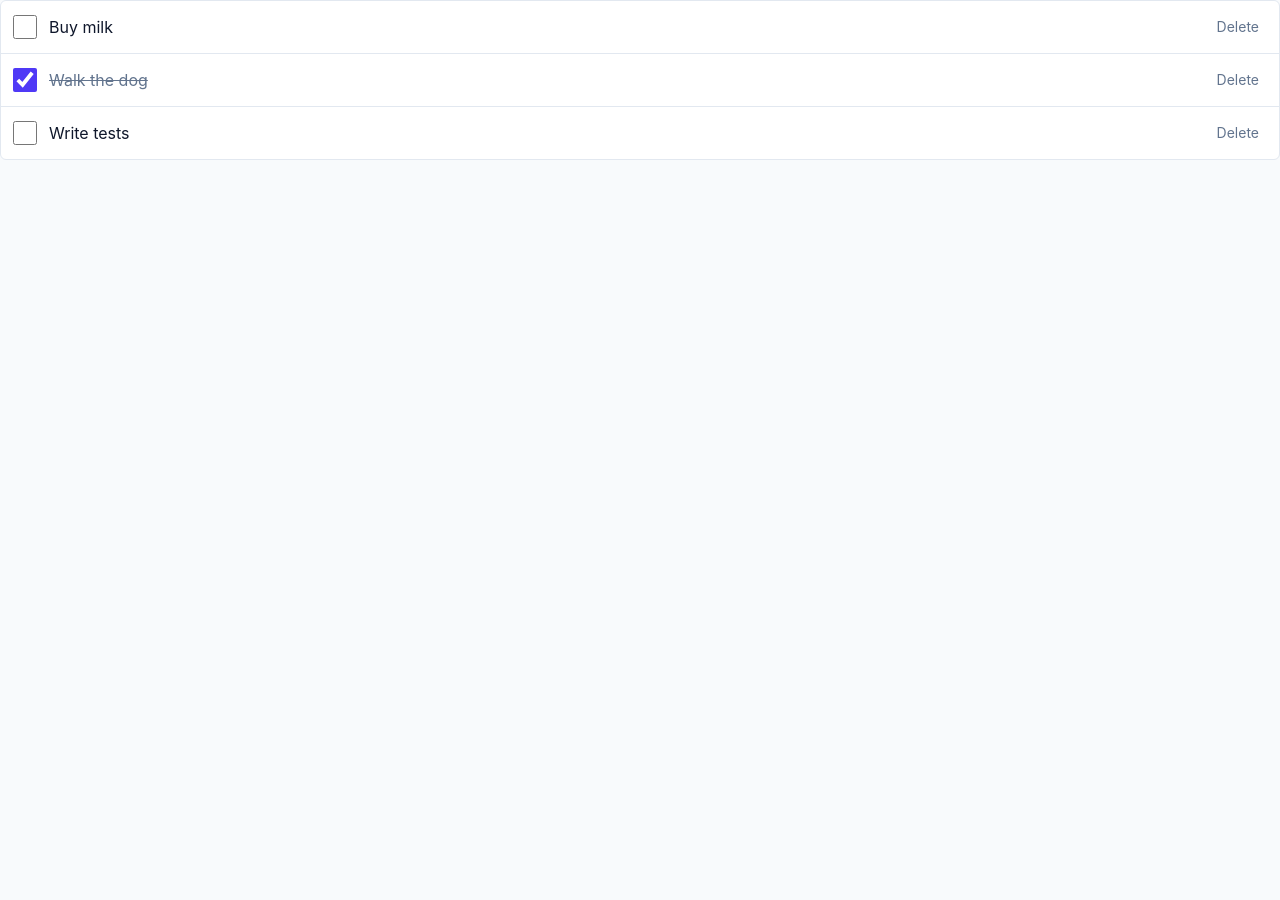
it: TaskList › confirm-delete dialog › opens a dialog naming the task instead of deleting right away
This screenshot has width=1280, height=900.
What coordinates should you click on to do the following:
click the button "Delete" in the row of "Walk the dog"
I would click on:
 (1238, 80)
Its box is [1209,66,1267,94].
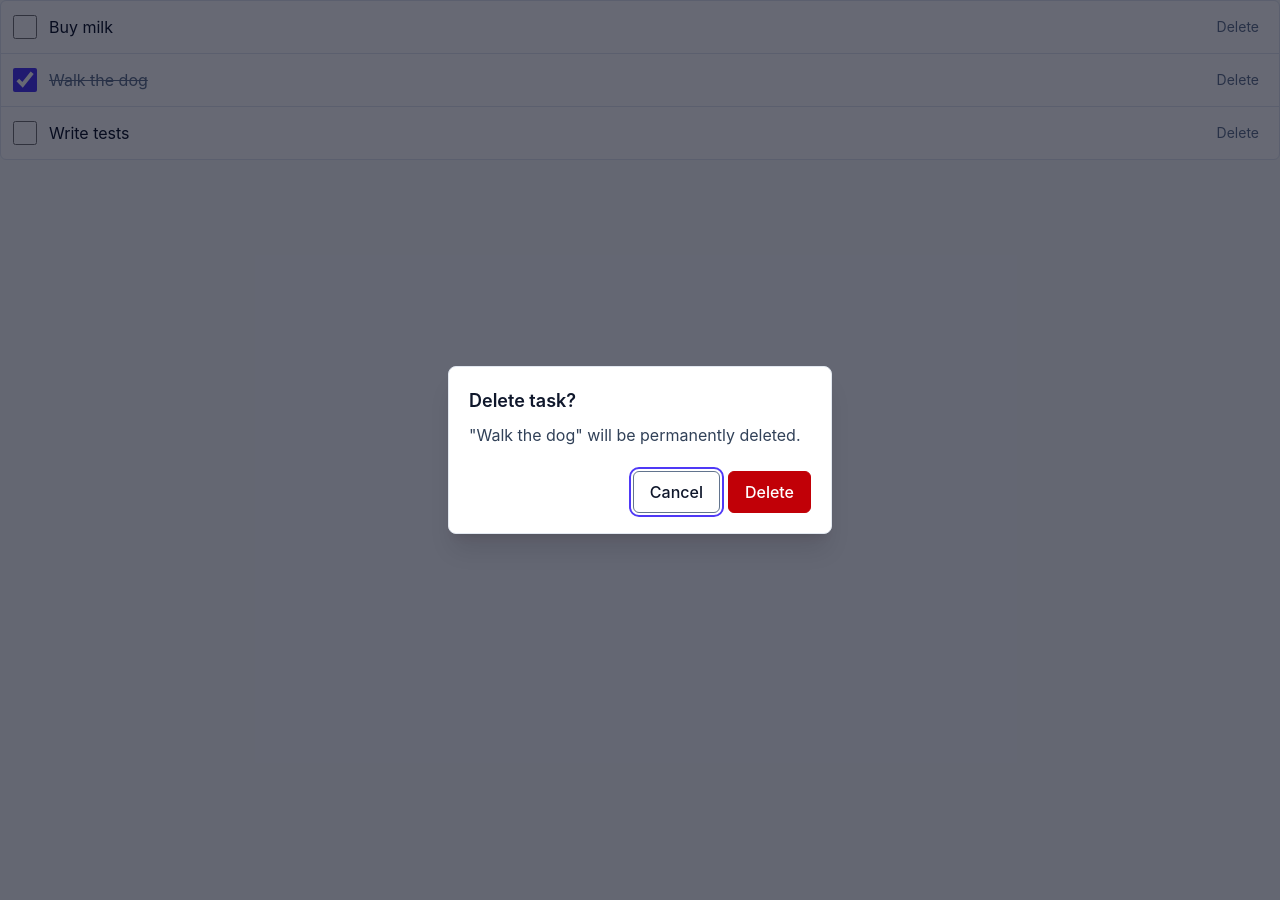
Result: the button "Delete" is shown at [728,471,811,513]
